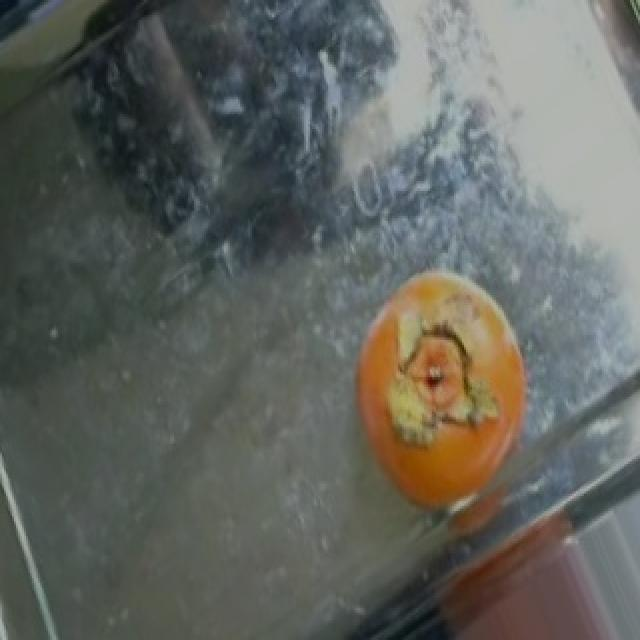Fruit: (336, 251, 552, 534), (410, 493, 634, 640)
